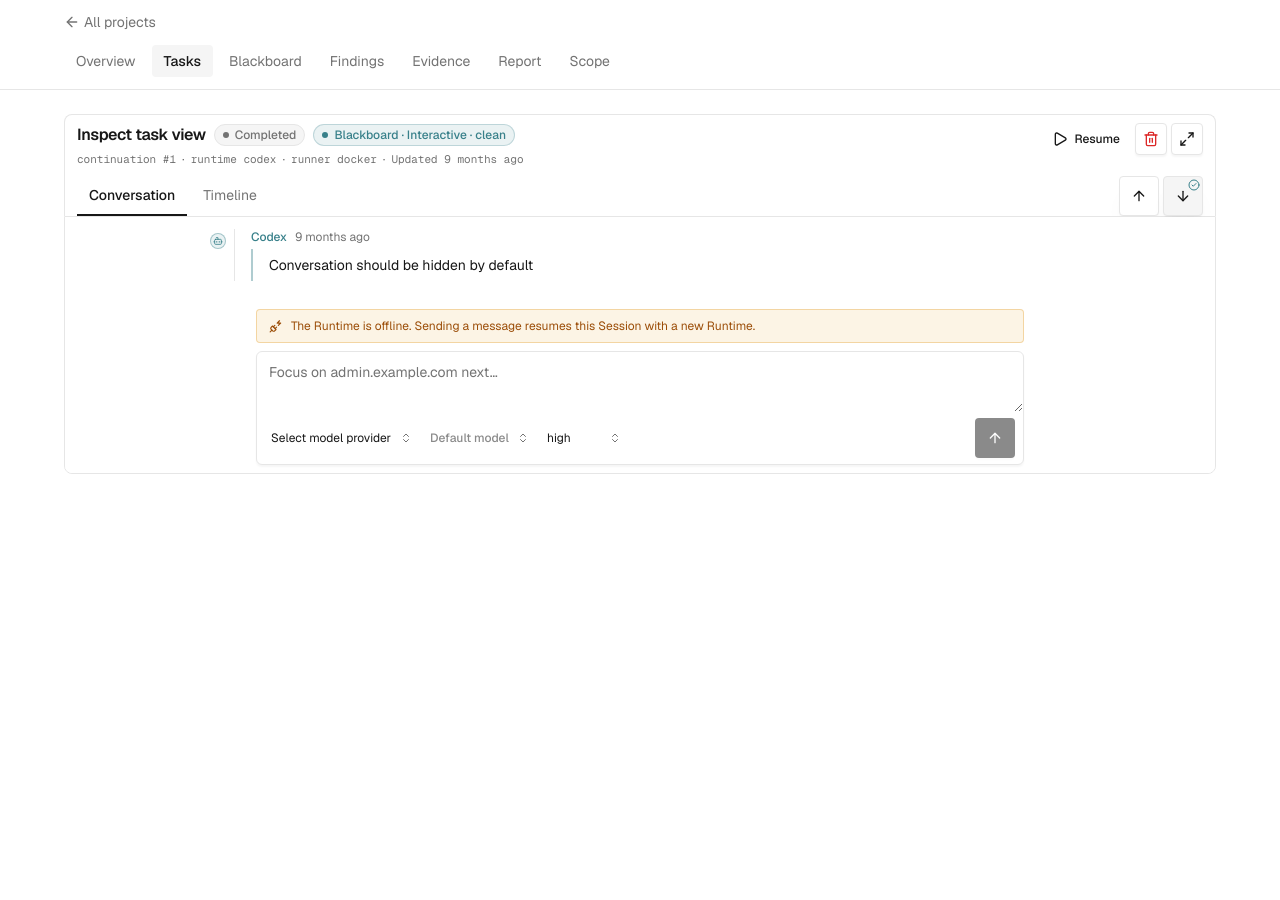
Test case: TaskDetailPage › switches into a compact focus view without project chrome
Expected: the text "Conversation should be hidden by default" is shown, [251,248,1070,280]
Expected: the navigation bar named "Project sections" is shown, [76,45,610,77]
Click the button named "Enter focus view" at (1187, 139), box [1171,123,1203,155]
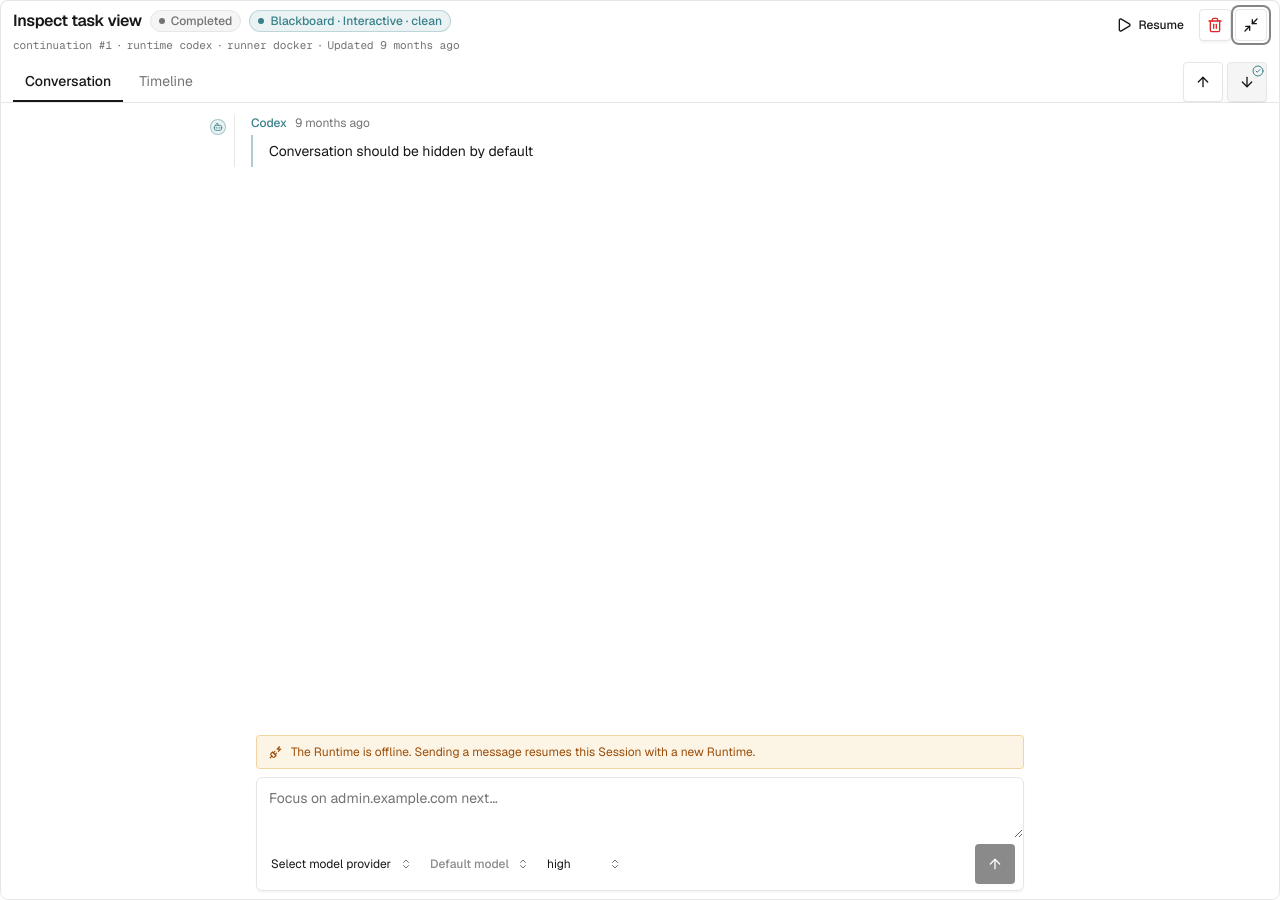
Now the button named "Exit focus view" is shown, box [1235,9,1267,41]
